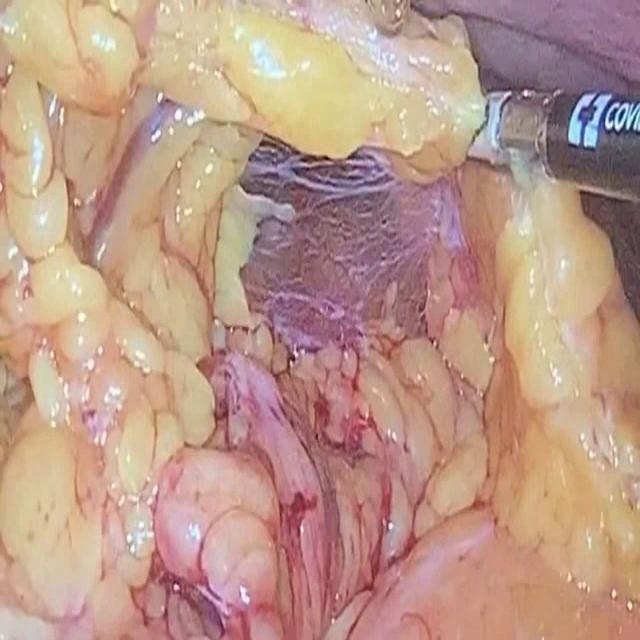surgical-tool: (468, 85, 640, 205)
